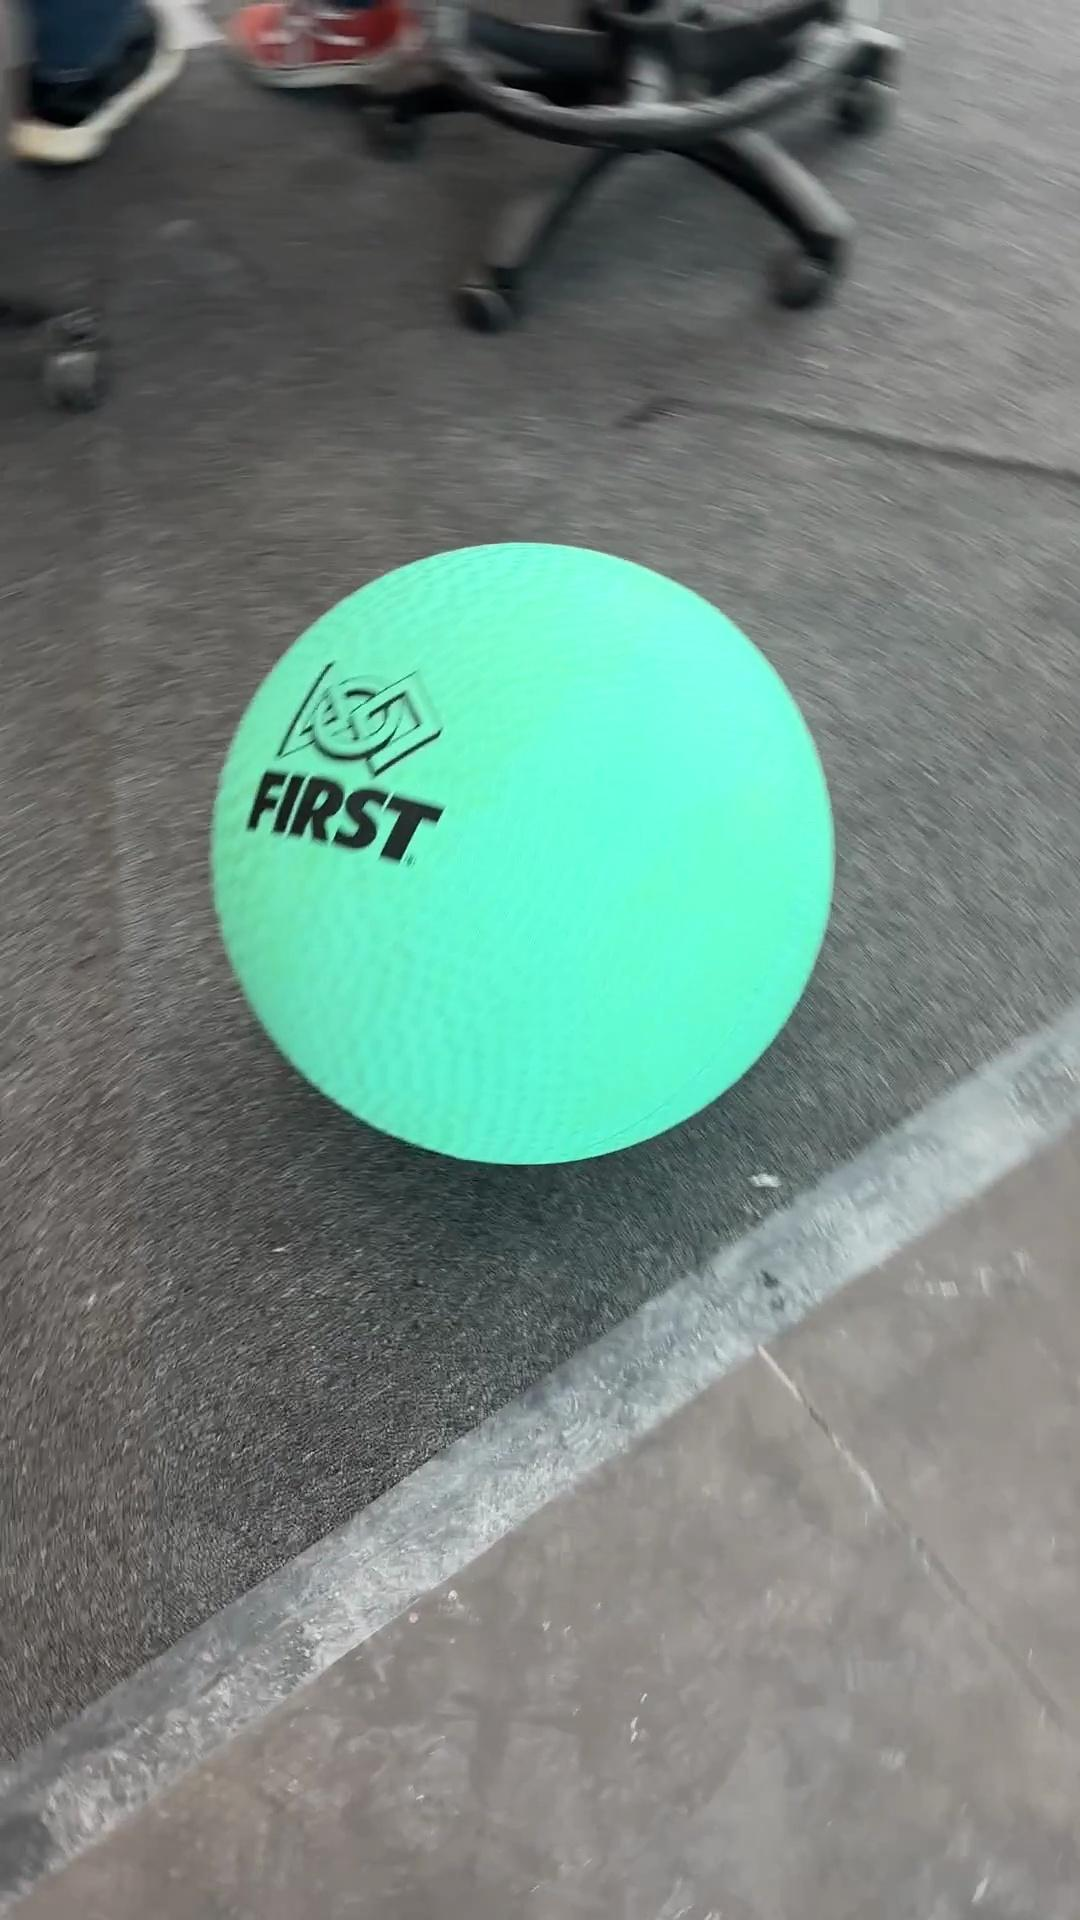ALGAE: (207, 537, 837, 1168)
